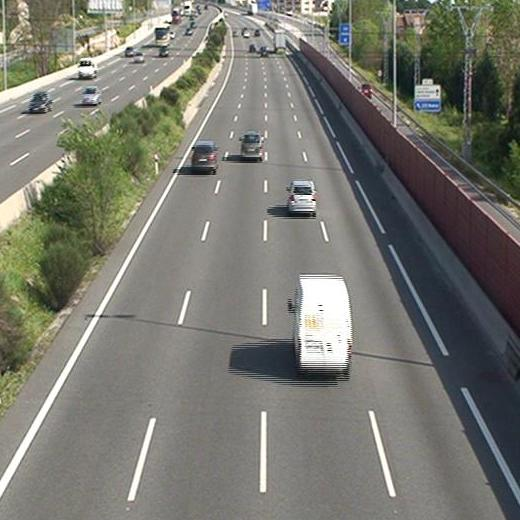car: (288, 181, 316, 213), (192, 142, 218, 171), (240, 132, 261, 158), (259, 48, 269, 57)
truck: (273, 29, 286, 53)
van: (292, 275, 352, 372)
